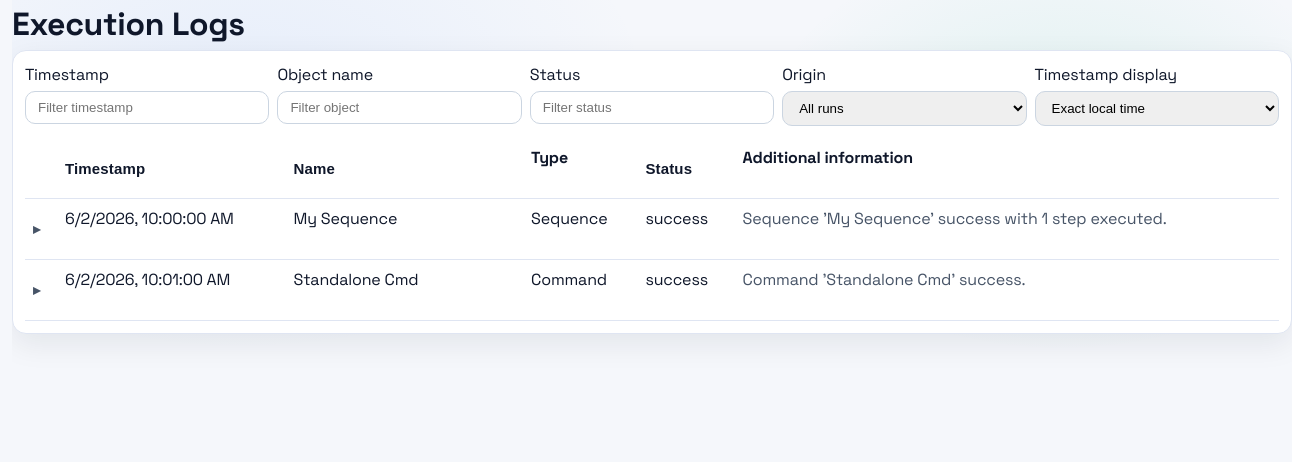
Scenario: ExecutionLogsPage grid › expands multiple top-level rows independently
Expected: the text "My Sequence" is shown, [286,199,523,260]
What coordinates should you click on to do the following:
click the button named "Expand sub-elements"
I would click on:
 (37, 229)
Its box is [33,207,40,251].
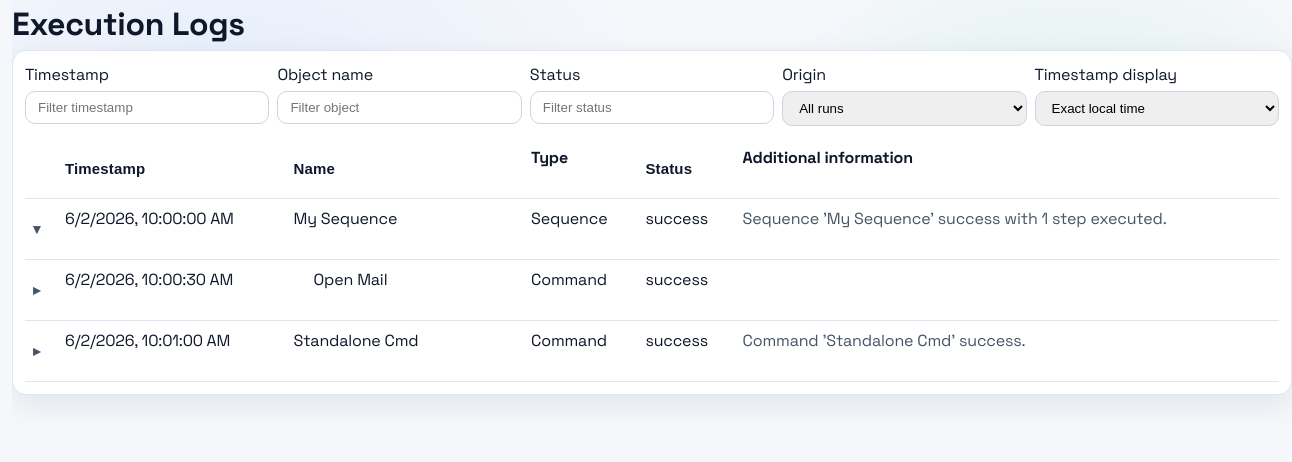
Expected: the text "Open Mail" is shown, [286,260,523,321]
What coordinates should you click on to do the following:
click the button named "Expand sub-elements"
I would click on:
 (37, 351)
Its box is [33,329,40,373].
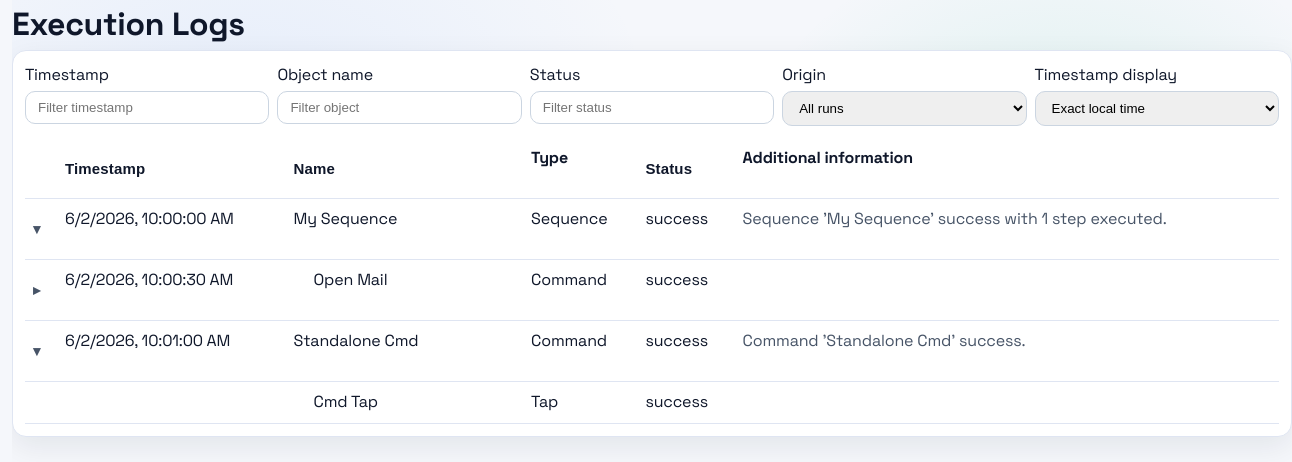
Expected: the text "Open Mail" is shown, [286,260,523,321]
Expected: the text "Cmd Tap" is shown, [286,382,523,424]
What coordinates should you click on to do the following:
click the button named "Collapse sub-elements"
I would click on:
 (37, 229)
Its box is [33,207,40,251].
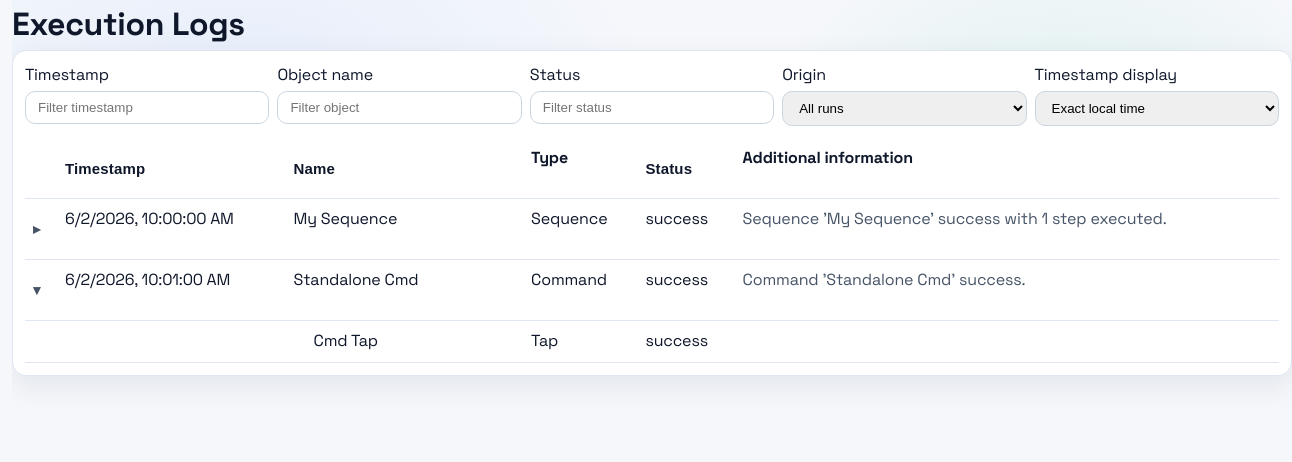
Expected: the text "Cmd Tap" is shown, [286,321,523,363]
Expected: the text "Open Mail" is gone
